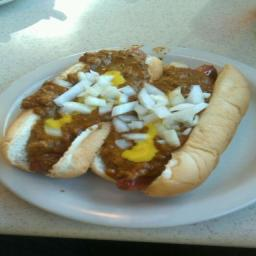hotdog: (114, 172, 169, 202), (22, 153, 74, 183), (197, 63, 230, 88), (126, 45, 152, 63)
